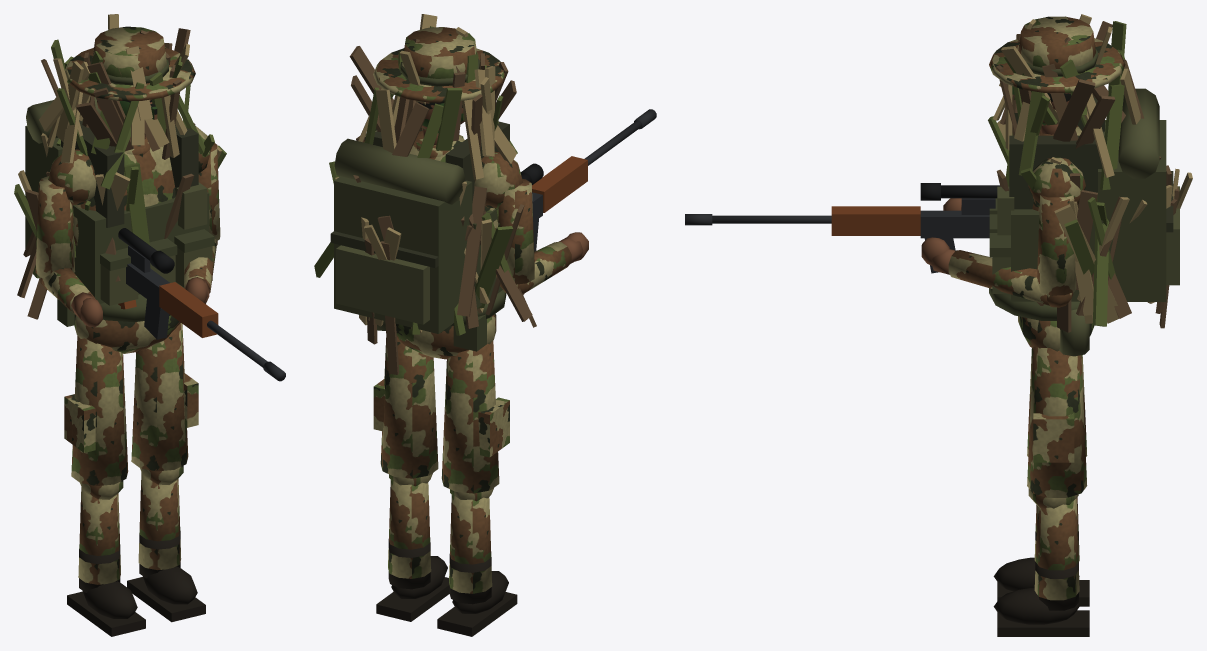
Rendered from soldier_ghillie.glb.
The picture shows the model from 3 angles, left to right: view 1: azimuth 30°, elevation 25°; view 2: azimuth 150°, elevation 25°; view 3: azimuth 270°, elevation 25°; orthographic projection. The views are drawn at different scales.
Parts seen in each view (by area): view 1: Torso, Head, LegR, LegL, Rifle, ArmR, Pelvis, ArmL; view 2: Torso, Head, LegR, LegL, ArmR, Rifle, Pelvis; view 3: Torso, Head, LegL, Rifle, ArmL, Pelvis, LegR.
Boxes of the visible parts, x1,y1,x2,y2 form: Torso: (14, 97, 226, 319); Head: (39, 14, 205, 189); LegR: (64, 335, 145, 636); LegL: (127, 323, 205, 622); Rifle: (118, 228, 285, 381); ArmR: (35, 176, 102, 327); Pelvis: (57, 284, 183, 353); ArmL: (184, 143, 220, 303); Torso: (314, 121, 536, 374); Head: (349, 14, 517, 179); LegR: (437, 341, 517, 636); LegL: (373, 337, 449, 621); ArmR: (496, 179, 588, 294); Rifle: (520, 109, 656, 251); Pelvis: (377, 290, 506, 359); Torso: (988, 88, 1192, 332); Head: (989, 14, 1144, 190); LegL: (993, 346, 1089, 636); Rifle: (685, 183, 1000, 273); ArmL: (921, 195, 1076, 307); Pelvis: (989, 288, 1094, 356); LegR: (993, 348, 1089, 606).
Size of the model in its own units: 0.7174 by 1.9 by 1.49.
15 materials, 2 textured.
